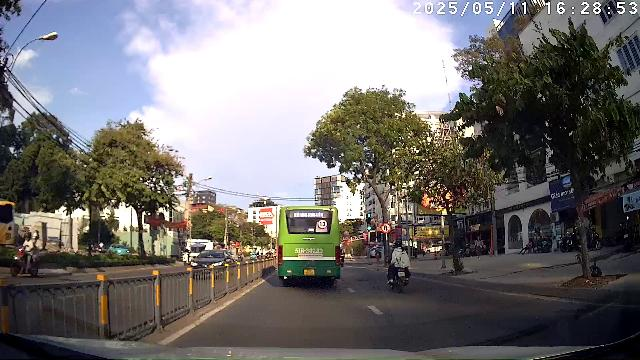124b-cam-oto-quay-dau-xe: (381, 223, 391, 233)
